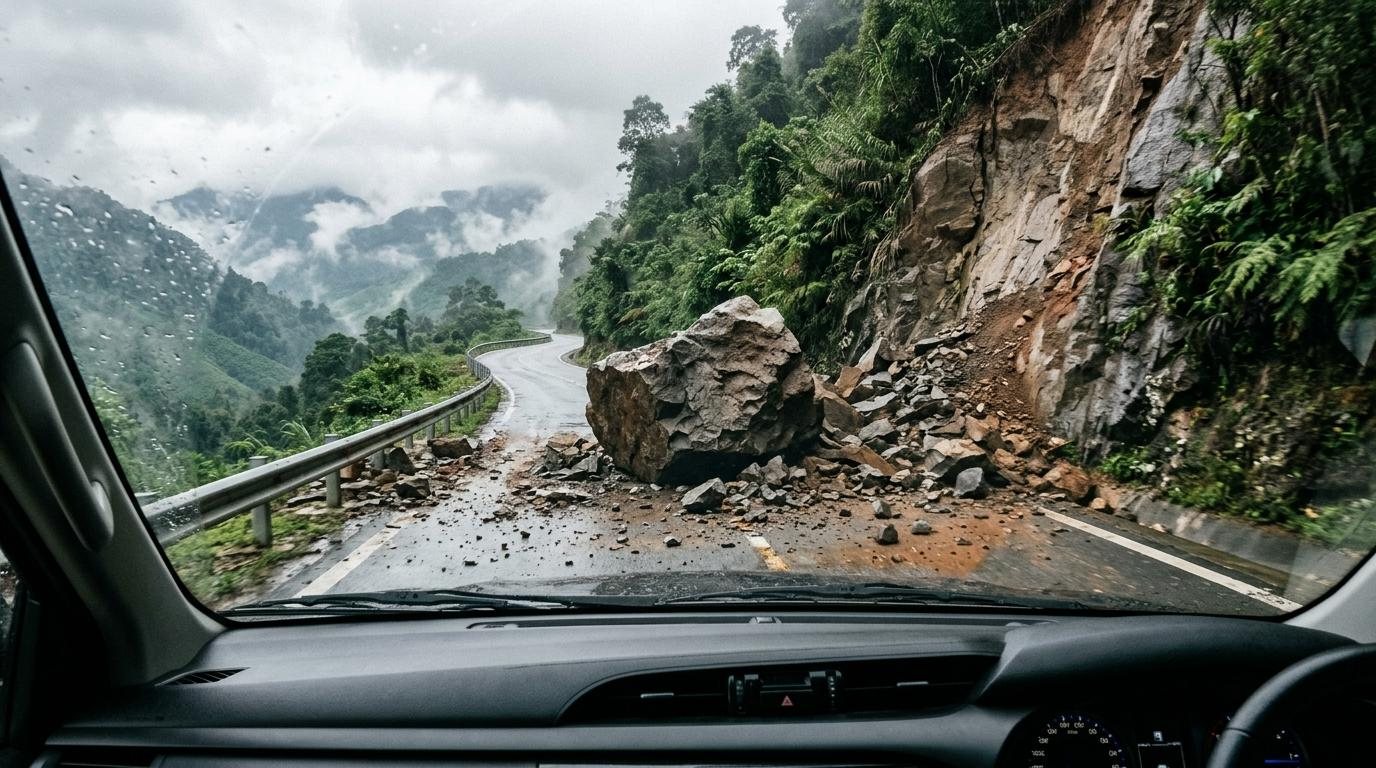ROAD_OBSTACLE: (358, 399, 881, 645)
